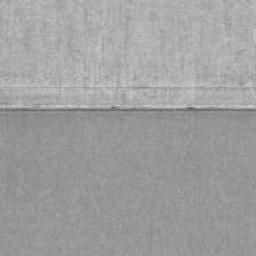Welding line: (0, 101, 256, 114)
